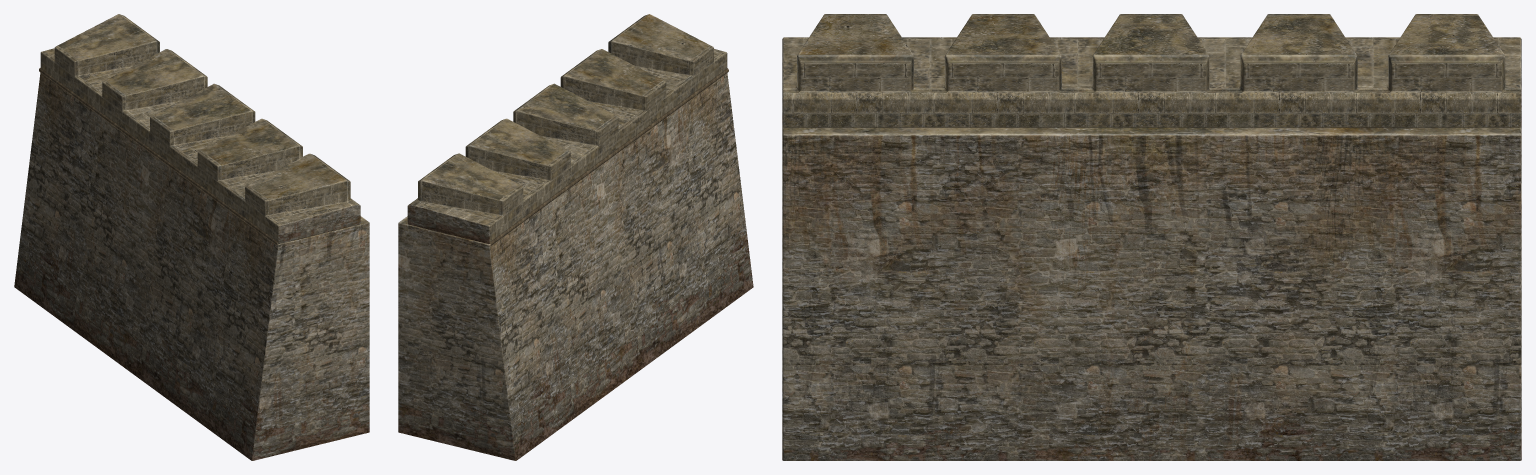
Rendered from modular_fort_01_wall_thick_straight_01.gltf.
3 views of the same model, side by side, from view 1: azimuth 30°, elevation 25°; view 2: azimuth 150°, elevation 25°; view 3: azimuth 270°, elevation 25° (orthographic). The views are drawn at different scales.
Visible parts, largest first — view 1: modular_fort_01_wall_thick_straight_01__x; view 2: modular_fort_01_wall_thick_straight_01__x; view 3: modular_fort_01_wall_thick_straight_01__x.
Boxes of the visible parts, x1,y1,x2,y2 form: modular_fort_01_wall_thick_straight_01__x: [14, 14, 369, 460]; modular_fort_01_wall_thick_straight_01__x: [398, 14, 753, 460]; modular_fort_01_wall_thick_straight_01__x: [782, 14, 1521, 460].
Size of the model in its own units: 4.17 by 8.53 by 14.56.
2 materials, 2 textured.
